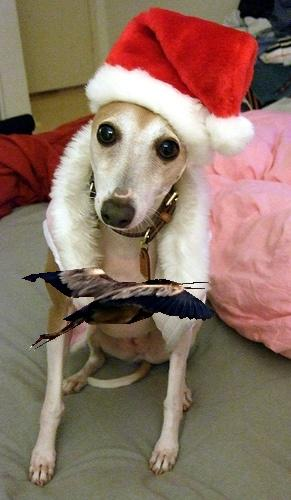tampered: (23, 268, 214, 351)
